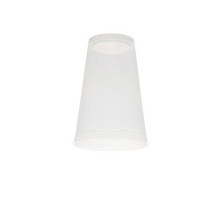glass: (66, 24, 153, 163)
